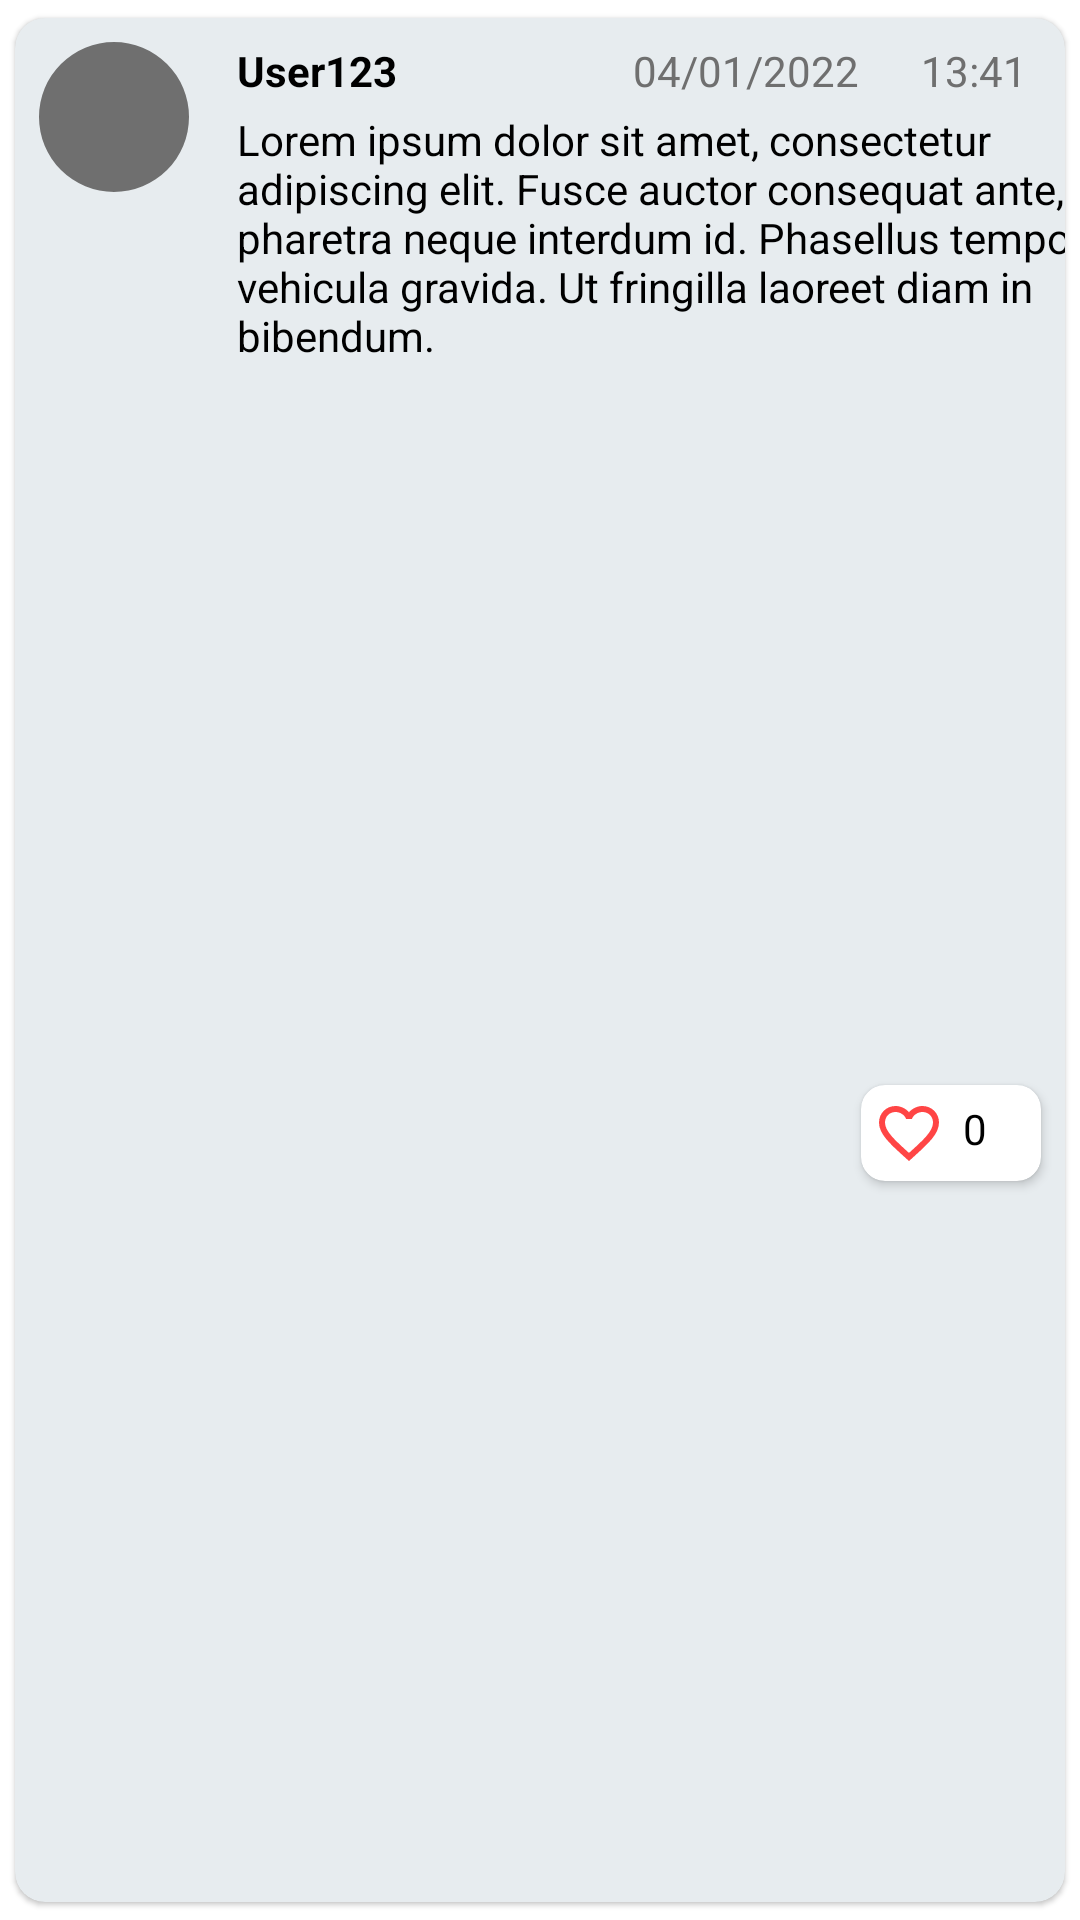

Screen size 1080×1920. Icon name, then its box in pixels as (x1, y1, x2, y2):
heart: (879, 1106, 939, 1161)
